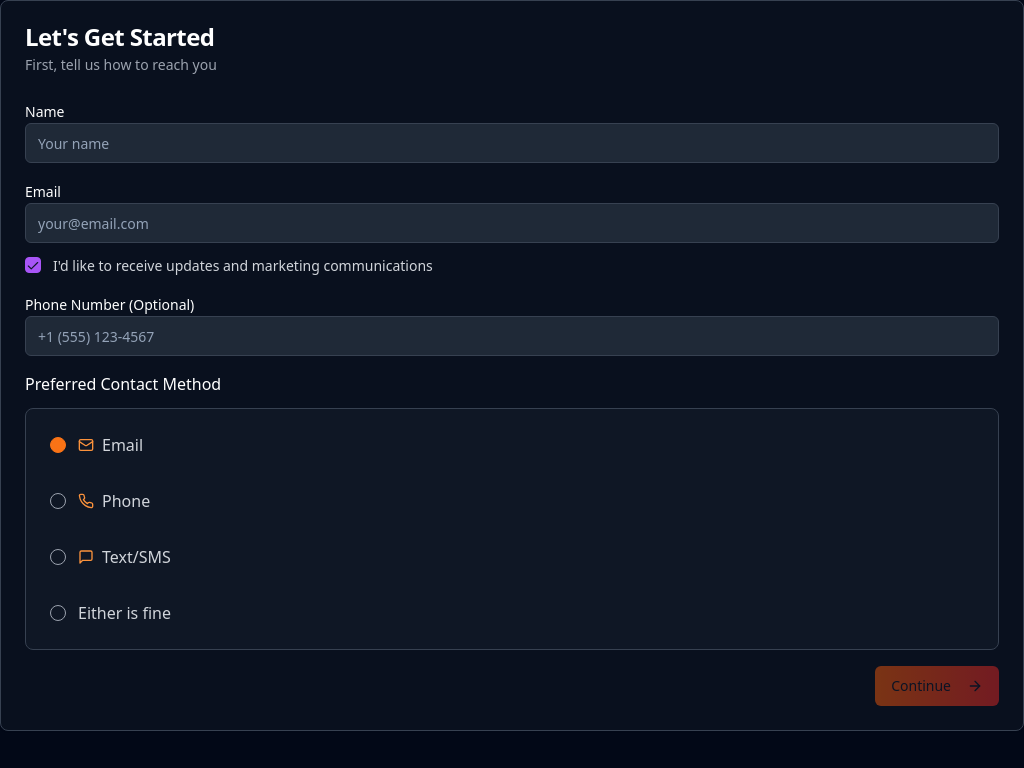
Test: IgnitionQualificationForm › Budget Selection Step › renders budget options correctly
The image size is (1024, 768).
Fill in contact form first to get to budget step
Step 1. Type "John Doe" into the field labelled "Name" → (512, 143), box top-left (25, 123), bottom-right (999, 163)
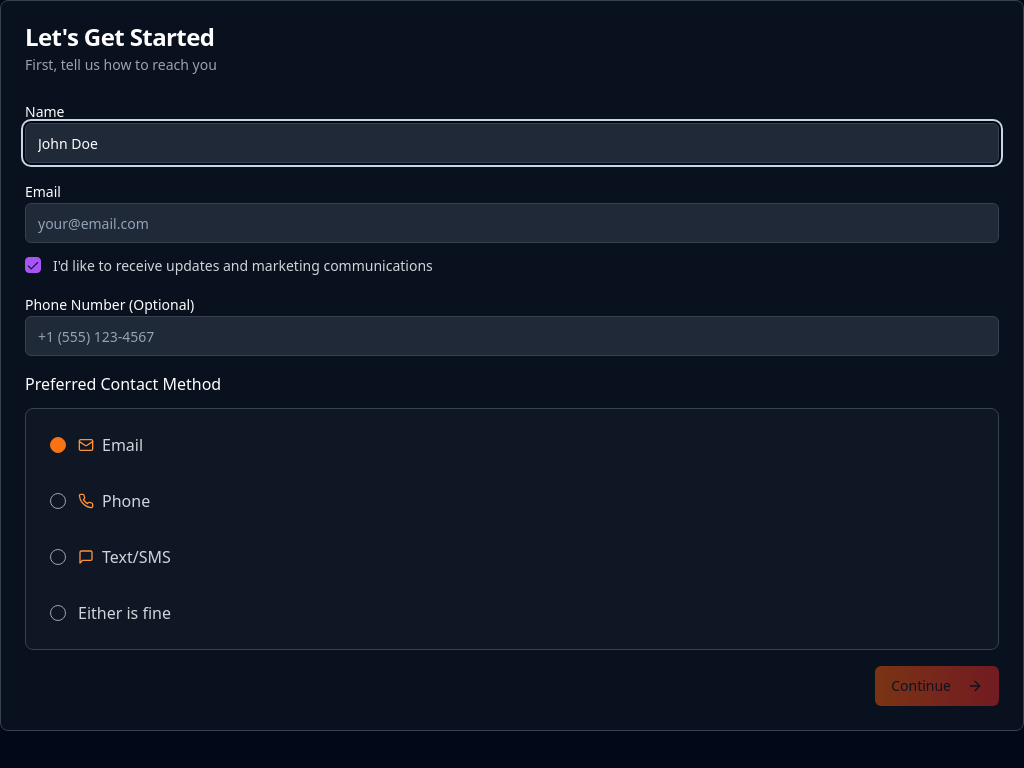
Step 2. Type "john@example.com" into the field with placeholder "your@email.com" → (512, 223), box top-left (25, 203), bottom-right (999, 243)
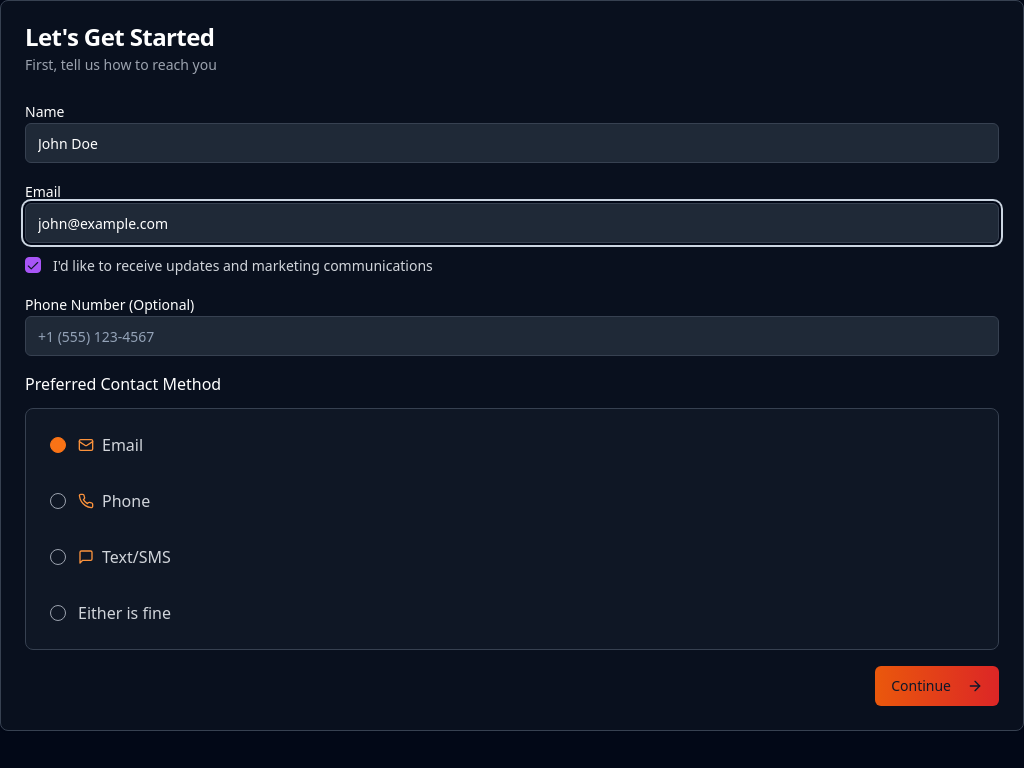
Step 3. Click the button "Continue" → (937, 686), box top-left (875, 666), bottom-right (999, 706)
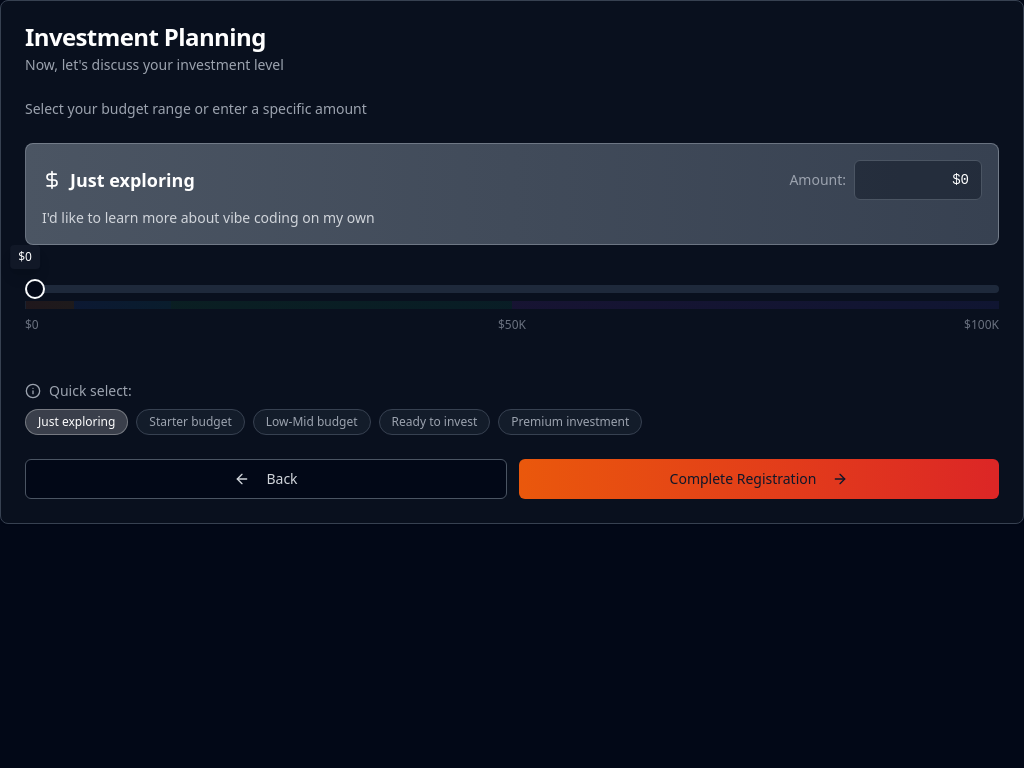
Result: the heading "Investment Planning" is shown at top-left (25, 20), bottom-right (266, 53)
Result: the text "Just exploring" is shown 2 times at top-left (70, 166), bottom-right (195, 194); top-left (25, 409), bottom-right (128, 435)
Result: the button "Starter budget" is shown at top-left (136, 409), bottom-right (245, 435)
